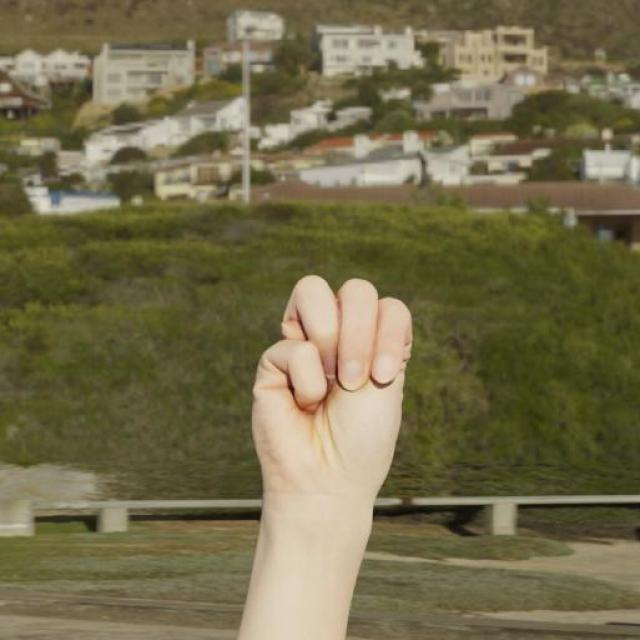M: (248, 271, 417, 500)
